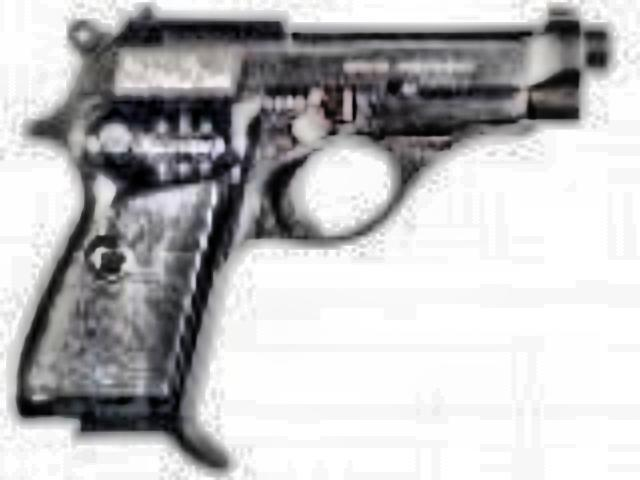pistol: (8, 0, 604, 440)
